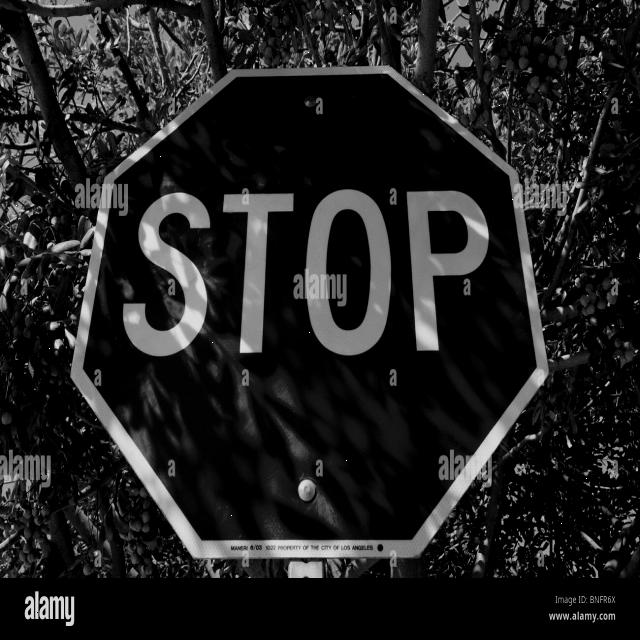Stop-sign: (57, 48, 558, 566)
